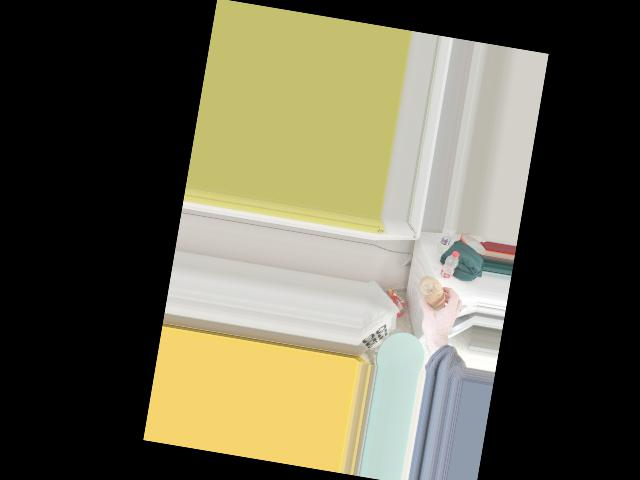sweet_potato: (416, 274, 448, 312)
